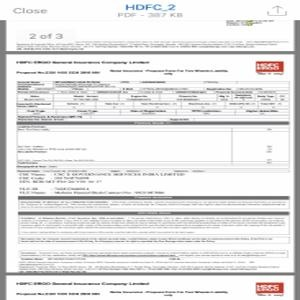image: (254, 279, 285, 296), (257, 59, 284, 74)
table: (16, 80, 290, 123), (17, 122, 290, 165)
text: (15, 168, 209, 196), (15, 56, 151, 67)
